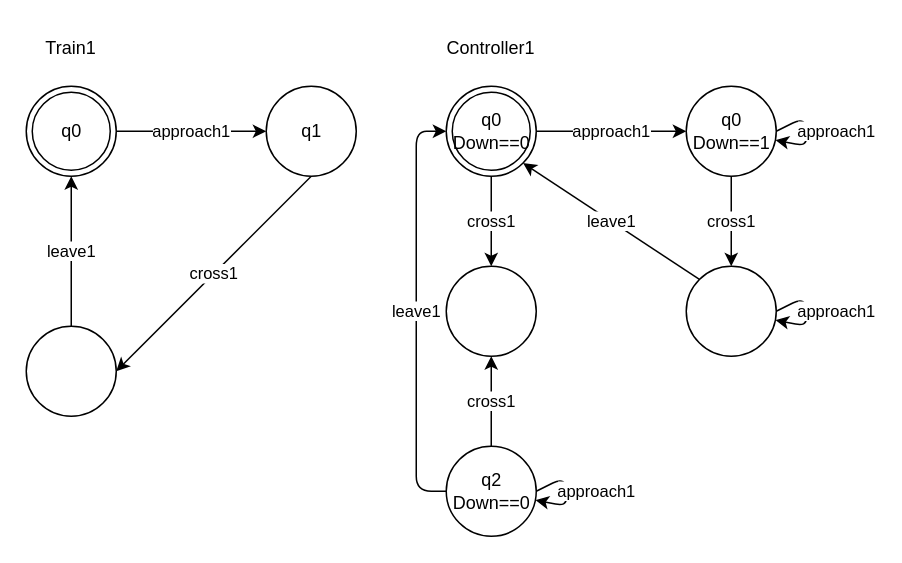
Some shapes in this 902 by 563 pixel diagram are drawn without their labels. The shapes that lost their labels are listed below. From the top down, each one's centre as x and y in pixels, then its label:
At (490,310): "q1 Down==0 Bad==1".
At (730,310): "q2 Down==1".
At (70,370): "q2".
